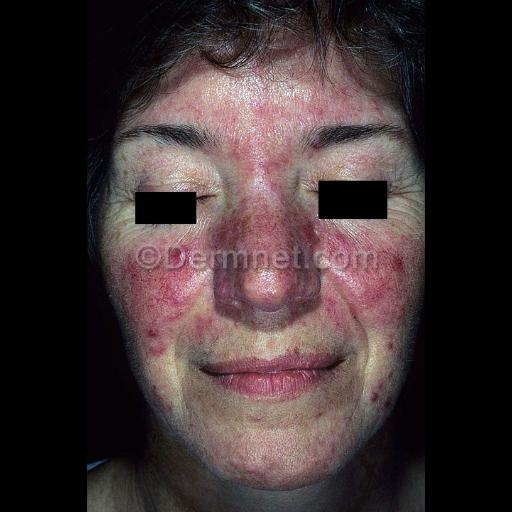Skin_Lesion: (230, 205, 304, 297), (384, 228, 408, 322), (151, 382, 175, 428), (300, 92, 326, 132), (167, 240, 193, 278), (120, 244, 140, 290), (184, 311, 218, 337), (319, 228, 355, 252), (239, 450, 269, 478), (358, 286, 386, 310), (231, 129, 243, 161), (386, 328, 398, 360), (371, 376, 383, 404), (146, 318, 160, 342)
